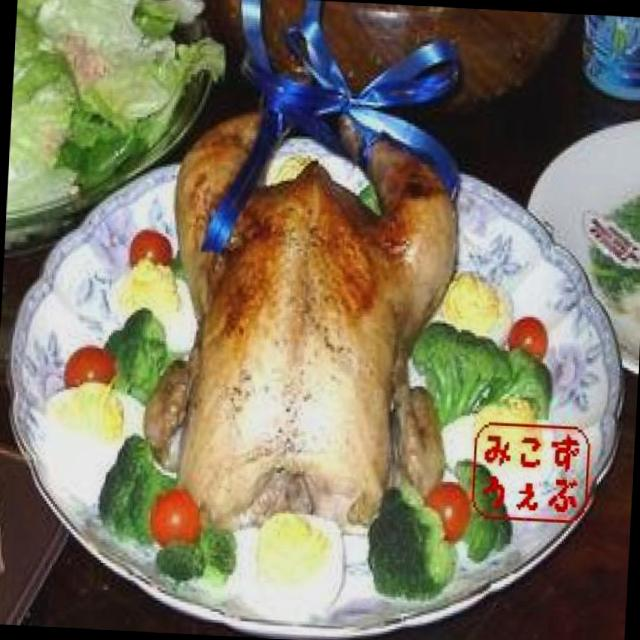Chicken: (174, 137, 412, 534)
